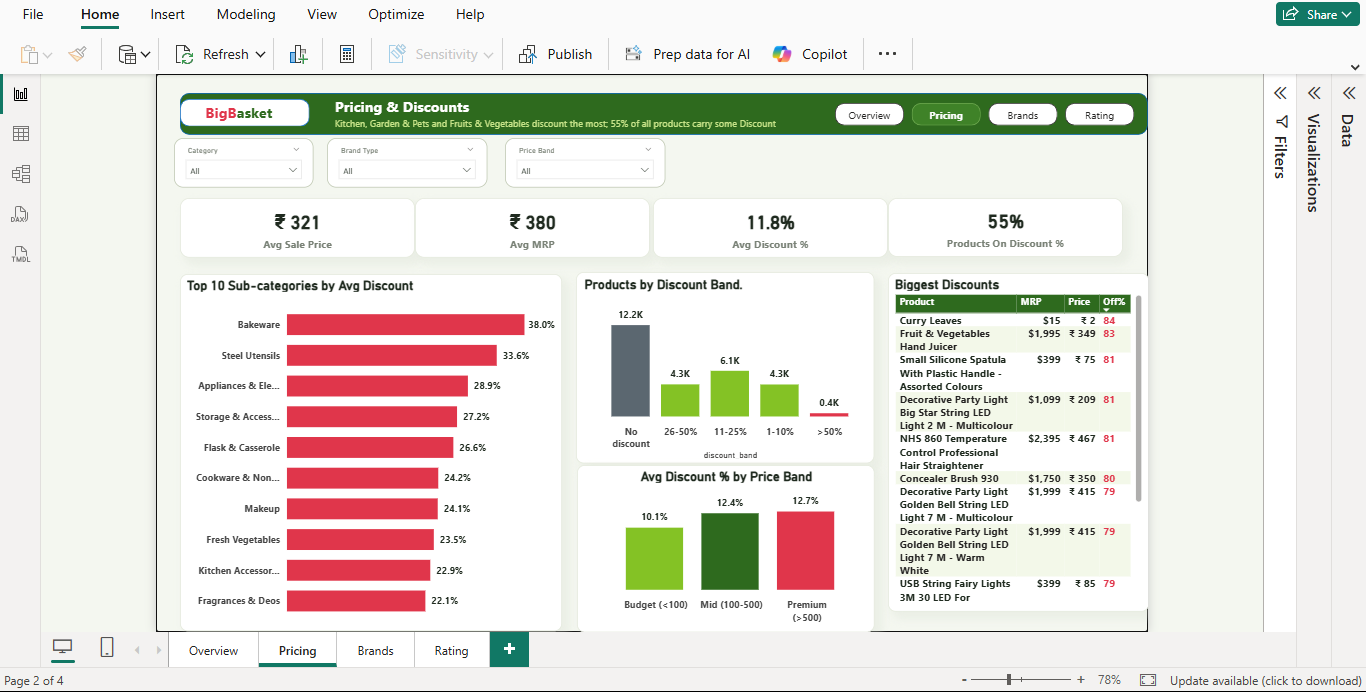

Layout of this report page (visuals, bound fields, positions):
{"tool":"powerbi","page":{"name":"Pricing","canvas":[1280,720],"ordinal":1},"visuals":[{"type":"shape","box":[31.2,24.1,1248.7,53.9],"z":0},{"type":"shape","box":[31.2,32.6,167.2,35.4],"z":1000},{"type":"textbox","box":[22.7,32.6,167.2,35.4],"z":2000},{"type":"textbox","box":[225.4,24.1,674.6,58.1],"z":3000},{"type":"slicer","fields":{"Values":["products.category"]},"box":[22.7,82.2,180,63.8],"z":4000},{"type":"slicer","fields":{"Values":["products.category"]},"box":[450.7,82.2,206.9,63.8],"z":5000},{"type":"slicer","title":"Brand Type","fields":{"Values":["products.brand_type"]},"box":[221.1,82.2,206.9,63.8],"z":6000},{"type":"pageNavigator","box":[876.1,37.4,388.4,29.7],"z":7000},{"type":"card","fields":{"Values":["products.Avg Sale Price"]},"box":[31.5,160.2,303.2,77.2],"z":8000},{"type":"card","fields":{"Values":["products.Avg MRP"]},"box":[334.7,160.2,303.2,77.2],"z":9000},{"type":"card","fields":{"Values":["products.Avg Discount %"]},"box":[640.7,160.2,303.2,77.2],"z":10000},{"type":"card","fields":{"Values":["products.Products On Discount %"]},"box":[943.9,160.2,303.2,75.8],"z":11000},{"type":"clusteredBarChart","title":"Top 10 Sub-categories by Avg Discount","fields":{"Category":["products.sub_category"],"Y":["products.Avg Discount (min 30)"]},"box":[31.5,257.4,493,461],"z":12000},{"type":"clusteredColumnChart","title":"Products by Discount Band.","fields":{"Category":["products.discount_band"],"Y":["products.Total Products"]},"box":[542,256,384.7,247.4],"z":13000},{"type":"clusteredColumnChart","title":"Avg Discount % by Price Band","fields":{"Category":["products.price_band"],"Y":["products.Avg Discount %"]},"box":[543,504,384,216],"z":14000},{"type":"tableEx","title":"Biggest Discounts","fields":{"Values":["products.product","products.market_price","products.sale_price","products.discount_pct"]},"box":[943.9,256.5,337.3,437],"z":15000}]}

Visuals, with their boxes on the page's 1280x720 design canvas (x1, y1, x2, y2). These are canvas units, not pixel positions in the 1366x692 screenshot, which may show the page scaled, cropped or inside an application window:
shape: box=[31, 24, 1280, 78]
shape: box=[31, 33, 198, 68]
textbox: box=[23, 33, 190, 68]
textbox: box=[225, 24, 900, 82]
slicer - products.category: box=[23, 82, 203, 146]
slicer - products.category: box=[451, 82, 658, 146]
"Brand Type" slicer: box=[221, 82, 428, 146]
pageNavigator: box=[876, 37, 1264, 67]
card - products.Avg Sale Price: box=[32, 160, 335, 237]
card - products.Avg MRP: box=[335, 160, 638, 237]
card - products.Avg Discount %: box=[641, 160, 944, 237]
card - products.Products On Discount %: box=[944, 160, 1247, 236]
"Top 10 Sub-categories by Avg Discount" clusteredBarChart: box=[32, 257, 524, 718]
"Products by Discount Band." clusteredColumnChart: box=[542, 256, 927, 503]
"Avg Discount % by Price Band" clusteredColumnChart: box=[543, 504, 927, 720]
"Biggest Discounts" tableEx: box=[944, 256, 1281, 694]
